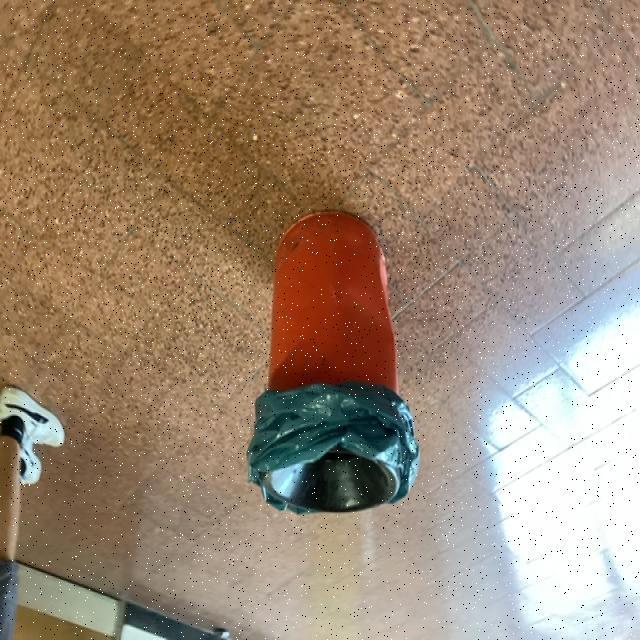garbage container: (242, 191, 430, 528)
